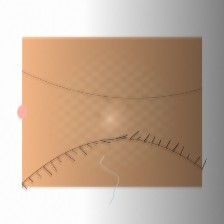foreign_body_visible: (82, 120, 109, 141)
